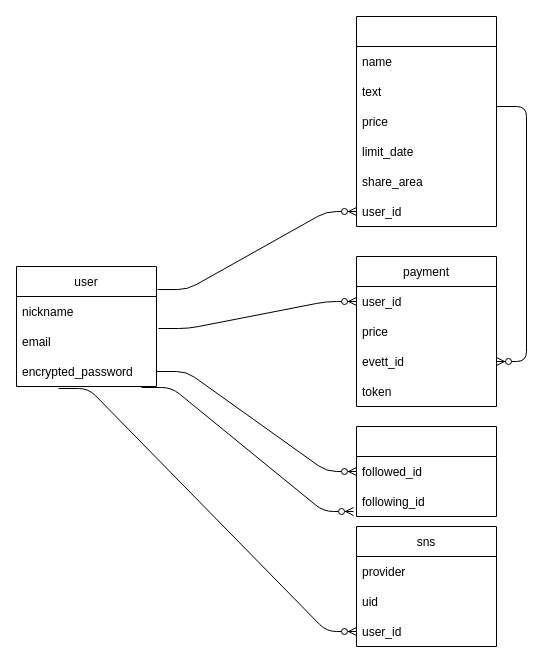
The diagram is 543 pixels wide and 663 high, and some of its shapes have lost their labels. Here are the shapes that lost their labels. From the top down, the box of each, then its label:
(356, 16, 496, 226): evett
(356, 426, 496, 516): freind
